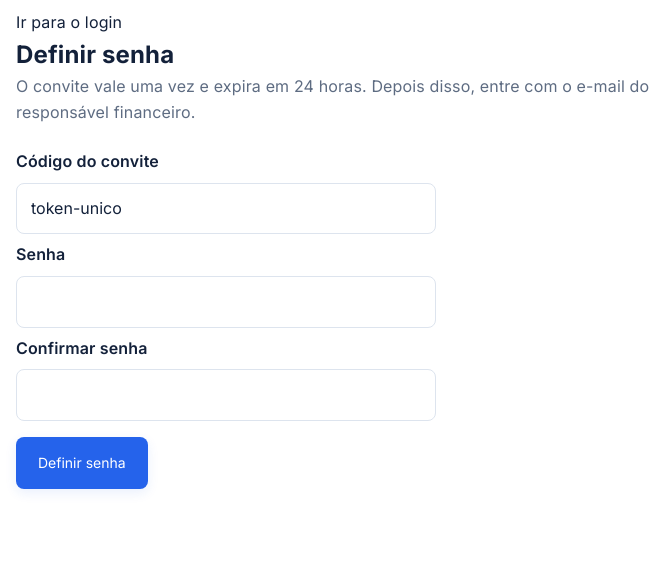
Test: slow server asks to try again
Type "senha123" into the password field labelled "Senha" at (226, 302), box [16, 276, 436, 328]
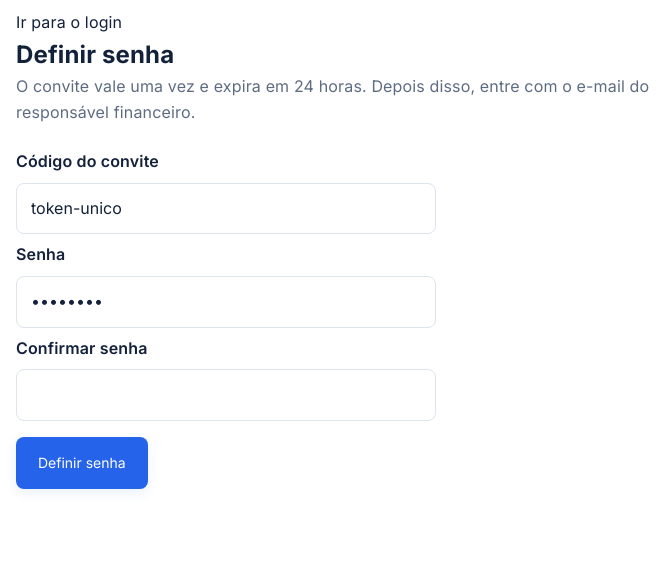
Type "senha123" into the password field labelled "Confirmar senha" at (226, 395), box [16, 369, 436, 421]
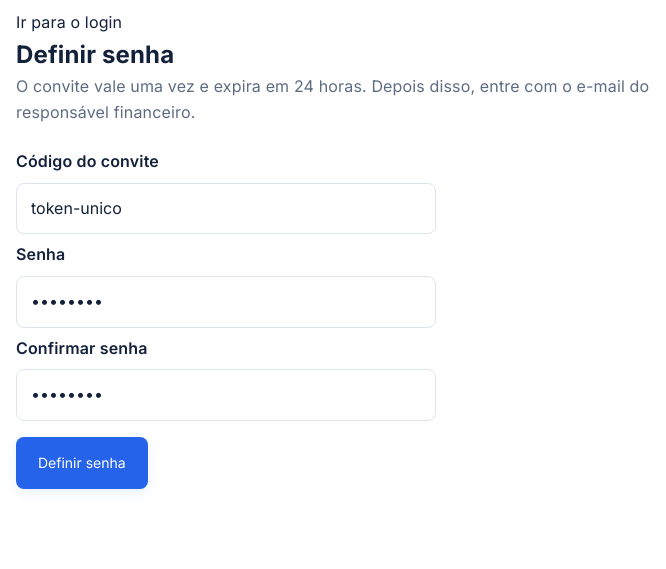
Click the button "Definir senha" at (82, 463), box [16, 437, 148, 489]
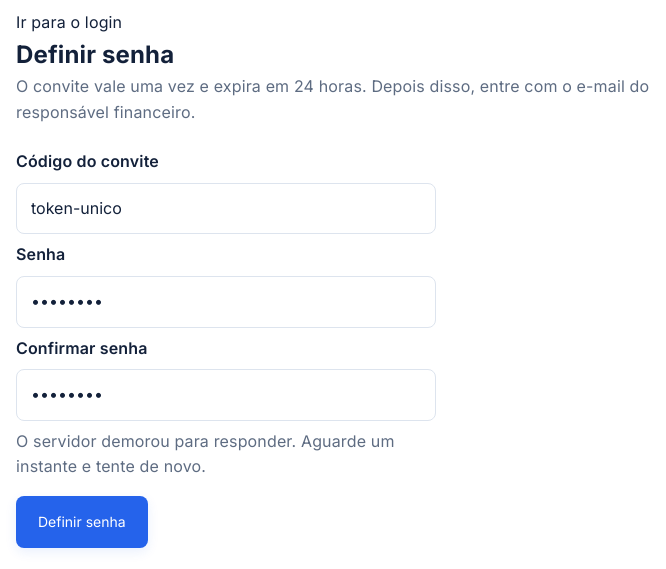
Now the message shows "demorou para responder", box [16, 431, 395, 476]
